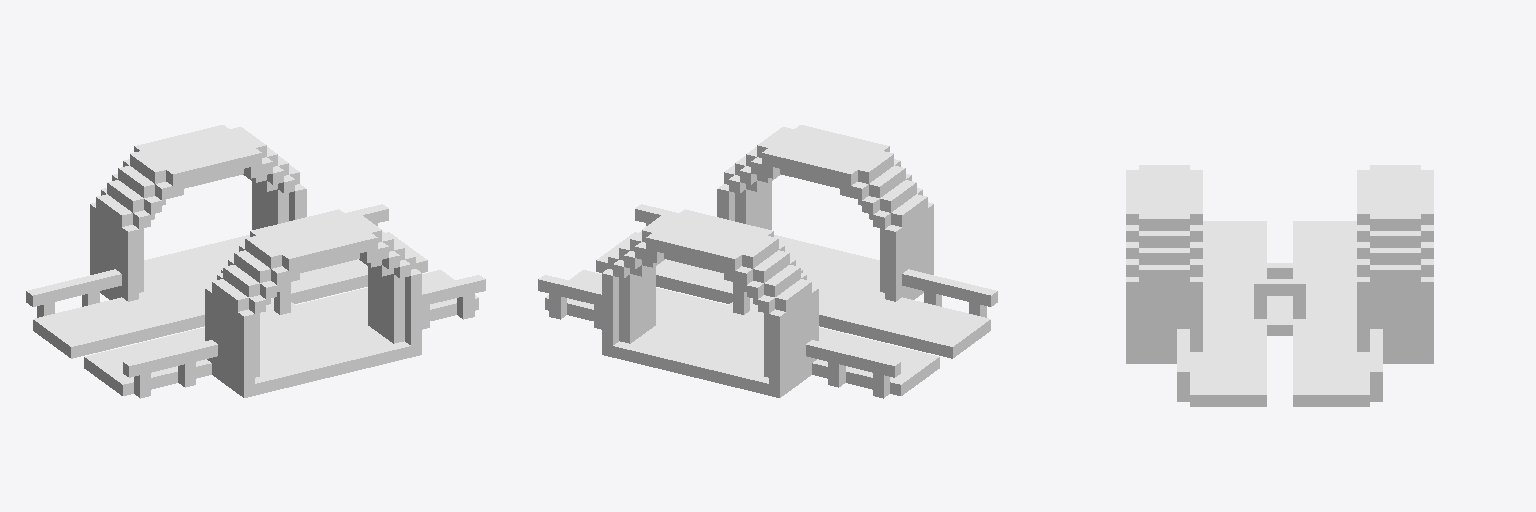
File: roadParking2.obj
The picture shows the model from 3 angles: view 1: azimuth 30°, elevation 25°; view 2: azimuth 150°, elevation 25°; view 3: azimuth 270°, elevation 25°; orthographic projection.
Parts seen in each view (by area): view 1: roadParking2; view 2: roadParking2; view 3: roadParking2.
Boxes of the visible parts, x1,y1,x2,y2 form: roadParking2: [26, 125, 485, 398]; roadParking2: [538, 125, 997, 398]; roadParking2: [1126, 165, 1433, 406].
Bounding box in the file's own units: 3.2 × 1.1 × 2.4.